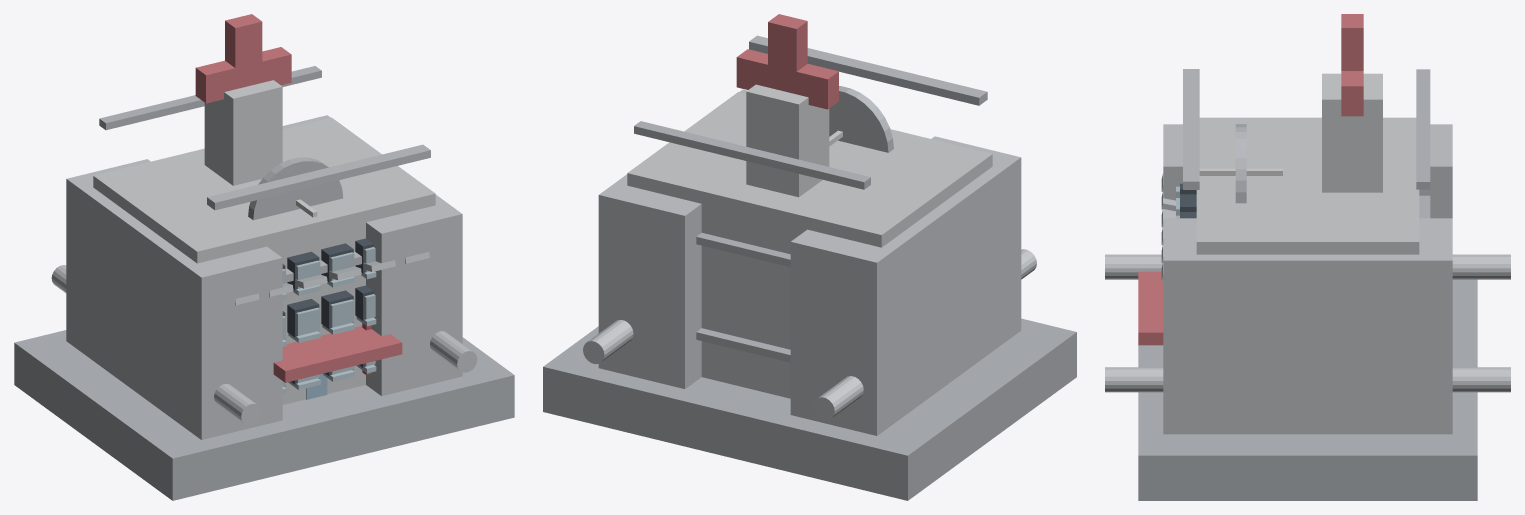
Rendered from hospital.glb.
The picture shows the model from 3 angles, left to right: view 1: azimuth 30°, elevation 25°; view 2: azimuth 150°, elevation 25°; view 3: azimuth 270°, elevation 25°; orthographic projection. The views are drawn at different scales.
Visible parts, largest first — view 1: world; view 2: world; view 3: world.
Part boxes in pixels (x1=…): world: x1=14, y1=14, x2=514, y2=500; world: x1=543, y1=14, x2=1076, y2=500; world: x1=1105, y1=14, x2=1510, y2=500.
Size of the model in its own units: 1.52 by 1.6 by 1.46.
